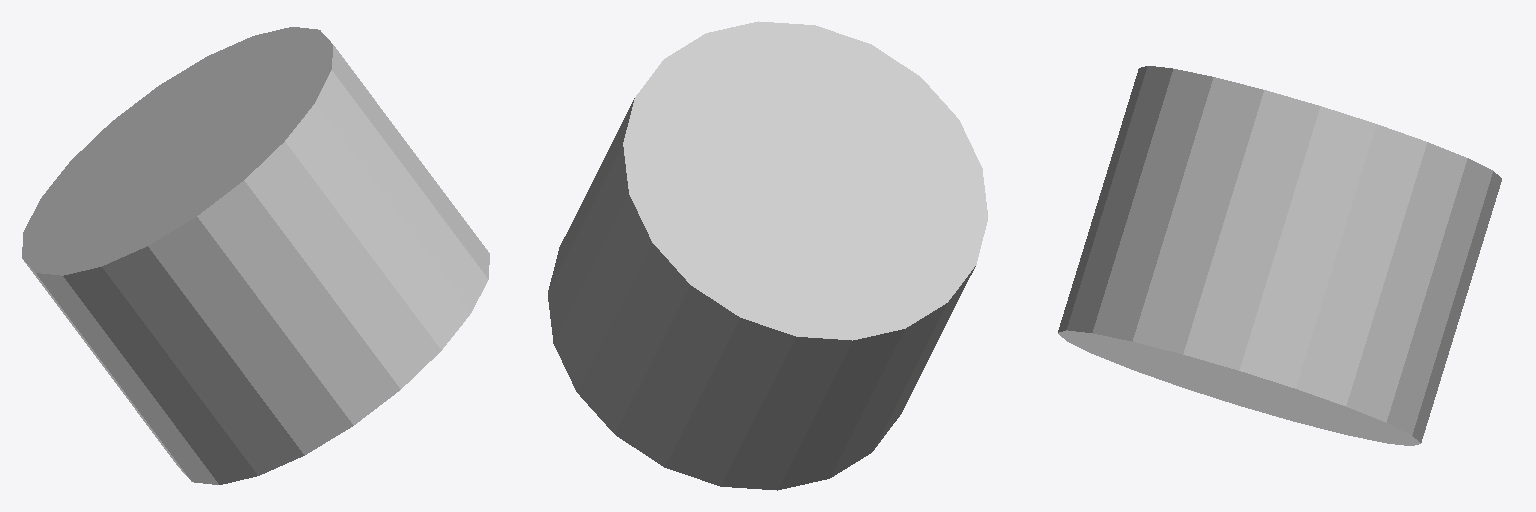
Rendered from wireConnectorTorso.obj.
3 views of the same model, side by side, from view 1: azimuth 30°, elevation 25°; view 2: azimuth 150°, elevation 25°; view 3: azimuth 270°, elevation 25° (orthographic).
Visible parts, largest first — view 1: pCylinder33; view 2: pCylinder33; view 3: pCylinder33.
Part boxes in pixels (x1,y1,x2,y2): pCylinder33: (22,27,489,484); pCylinder33: (548,21,987,490); pCylinder33: (1058,66,1501,445).
Size of the model in its own units: 1.35 by 1.29 by 1.3.